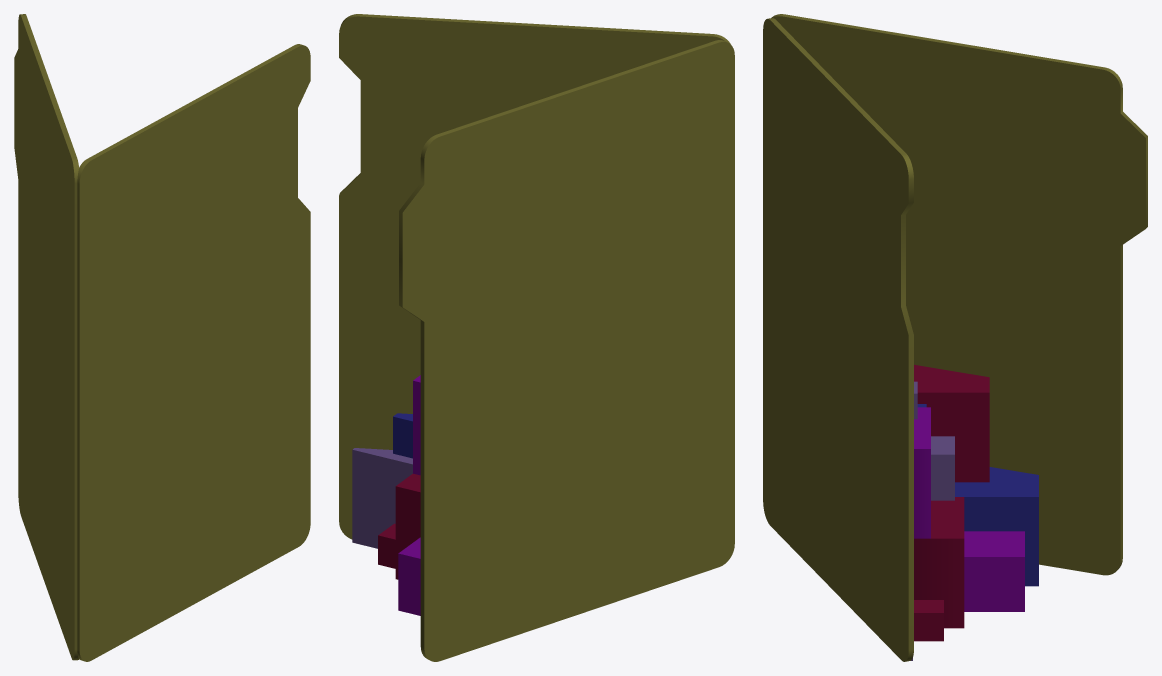
Rendered from Corrupted_Tower.fbx.
The picture shows the model from 3 angles, left to right: view 1: azimuth 30°, elevation 25°; view 2: azimuth 150°, elevation 25°; view 3: azimuth 270°, elevation 25°; orthographic projection. The views are drawn at different scales.
Visible parts, largest first — view 1: polySurface8; view 2: polySurface8, pCube7, pCube4, pCube5, pCube12, pCube3, pCube8; view 3: polySurface8, pCube2, pCube1, pCube4, pCube5, pCube3, pCube6, pCube8.
Part boxes in pixels (left/top/right/bottom): polySurface8: left=14, top=14, right=310, bottom=661; polySurface8: left=339, top=14, right=734, bottom=661; pCube7: left=352, top=448, right=412, bottom=548; pCube4: left=395, top=473, right=420, bottom=579; pCube5: left=398, top=537, right=420, bottom=615; pCube12: left=393, top=413, right=412, bottom=458; pCube3: left=413, top=375, right=420, bottom=475; pCube8: left=378, top=523, right=395, bottom=568; polySurface8: left=763, top=14, right=1147, bottom=661; pCube2: left=914, top=364, right=989, bottom=482; pCube1: left=955, top=467, right=1038, bottom=586; pCube4: left=914, top=497, right=964, bottom=628; pCube5: left=964, top=531, right=1024, bottom=611; pCube3: left=914, top=407, right=930, bottom=538; pCube6: left=931, top=436, right=954, bottom=500; pCube8: left=914, top=600, right=943, bottom=641.
Bounding box in the file's own units: 575 × 898 × 619.
